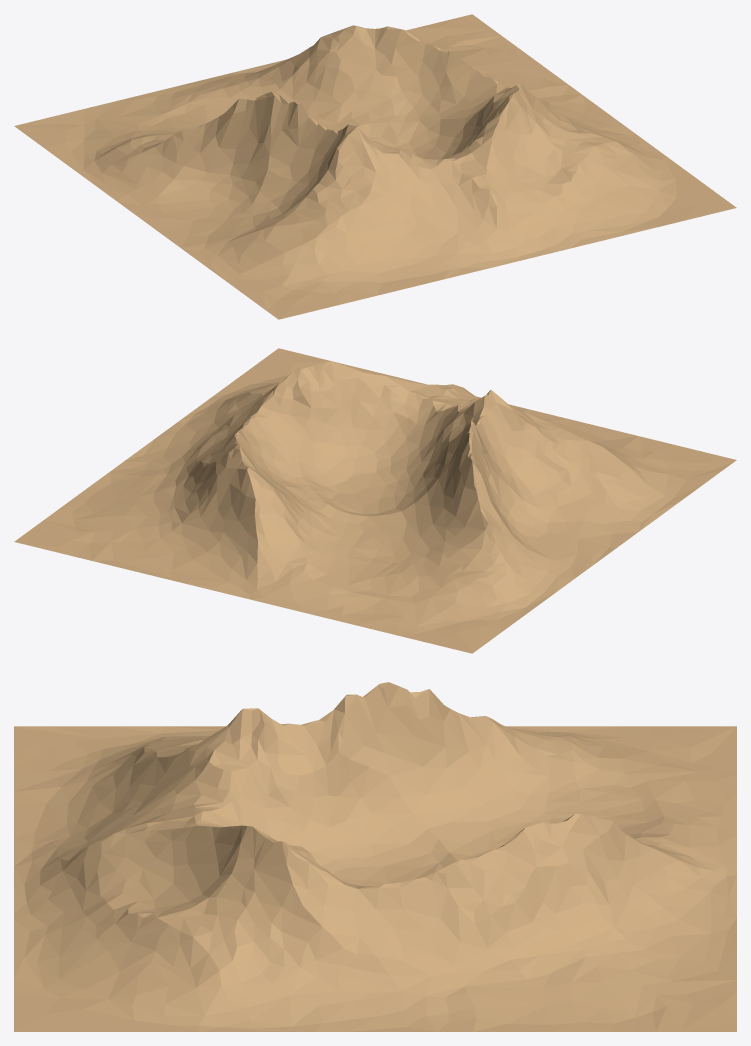
File: MT_Terrain_L_f_02_LOD.fbx
3 renders of one model, top to bottom at view 1: azimuth 30°, elevation 25°; view 2: azimuth 150°, elevation 25°; view 3: azimuth 270°, elevation 25°, orthographic. The views are drawn at different scales.
Visible parts, largest first — view 1: MT_Terrain_L_f_02_LOD0; view 2: MT_Terrain_L_f_02_LOD0; view 3: MT_Terrain_L_f_02_LOD0.
Part boxes in pixels (bbox=[...]): MT_Terrain_L_f_02_LOD0: bbox=[14, 14, 736, 319]; MT_Terrain_L_f_02_LOD0: bbox=[14, 348, 736, 653]; MT_Terrain_L_f_02_LOD0: bbox=[14, 682, 736, 1031].
Size of what is drawn, in the model's own units: 10000 by 2015 by 10000.
